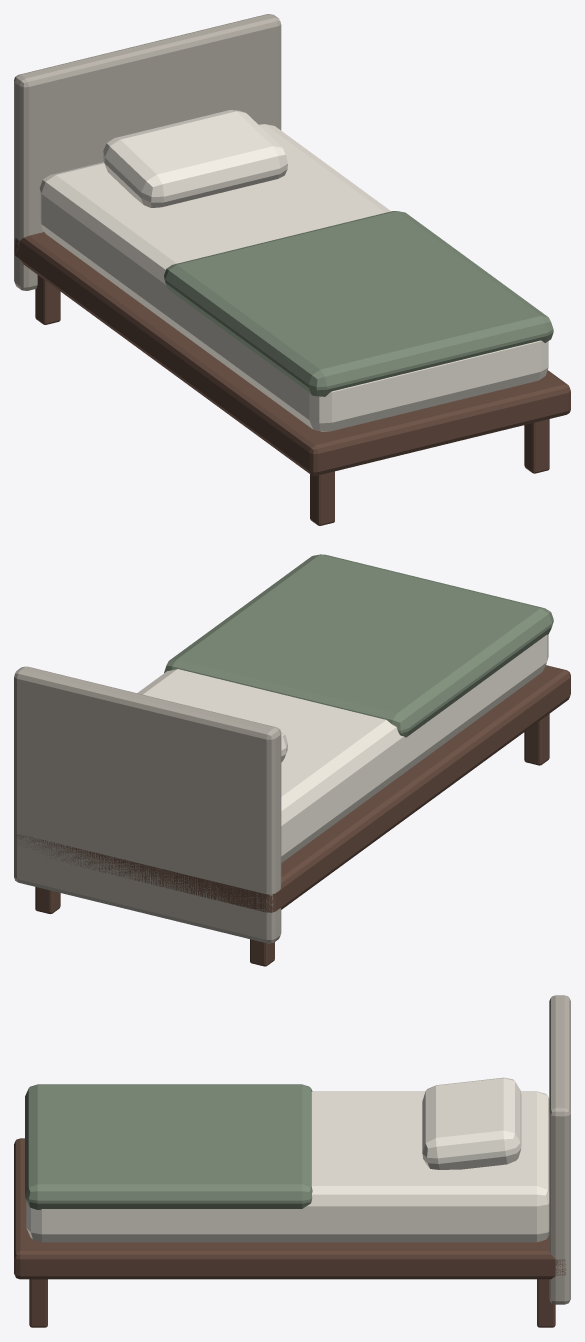
File: bedKid.glb
3 renders of one model, top to bottom at view 1: azimuth 30°, elevation 25°; view 2: azimuth 150°, elevation 25°; view 3: azimuth 270°, elevation 25°, orthographic. The views are drawn at different scales.
Parts seen in each view (by area): view 1: blanket.002, mattress.002, headboard.002, frame.002, pillow0.002, leg1-1.007, leg-1-1.007, leg-11.007; view 2: headboard.002, blanket.002, mattress.002, frame.002, leg-1-1.007, leg11.007, leg-11.007; view 3: mattress.002, blanket.002, frame.002, pillow0.002, headboard.002, leg1-1.007, leg11.007.
Part boxes in pixels (box(x1,y1,x2,y2)): blanket.002: box(164, 211, 553, 396); mattress.002: box(39, 124, 548, 431); headboard.002: box(14, 14, 281, 290); frame.002: box(14, 232, 570, 475); pillow0.002: box(102, 110, 287, 207); leg1-1.007: box(524, 419, 549, 473); leg-1-1.007: box(310, 471, 334, 525); leg-11.007: box(35, 275, 60, 324); headboard.002: box(14, 666, 281, 943); blanket.002: box(164, 554, 553, 737); mattress.002: box(137, 634, 548, 862); frame.002: box(17, 665, 570, 912); leg-1-1.007: box(524, 714, 549, 765); leg11.007: box(35, 887, 60, 913); leg-11.007: box(250, 939, 274, 966); mattress.002: box(26, 1091, 549, 1242); blanket.002: box(25, 1084, 312, 1209); frame.002: box(14, 1138, 565, 1279); pillow0.002: box(422, 1077, 521, 1169); headboard.002: box(549, 995, 570, 1304); leg1-1.007: box(29, 1279, 47, 1327); leg11.007: box(537, 1279, 555, 1327).
Size of the model in its own units: 0.9 by 0.8 by 1.8.
